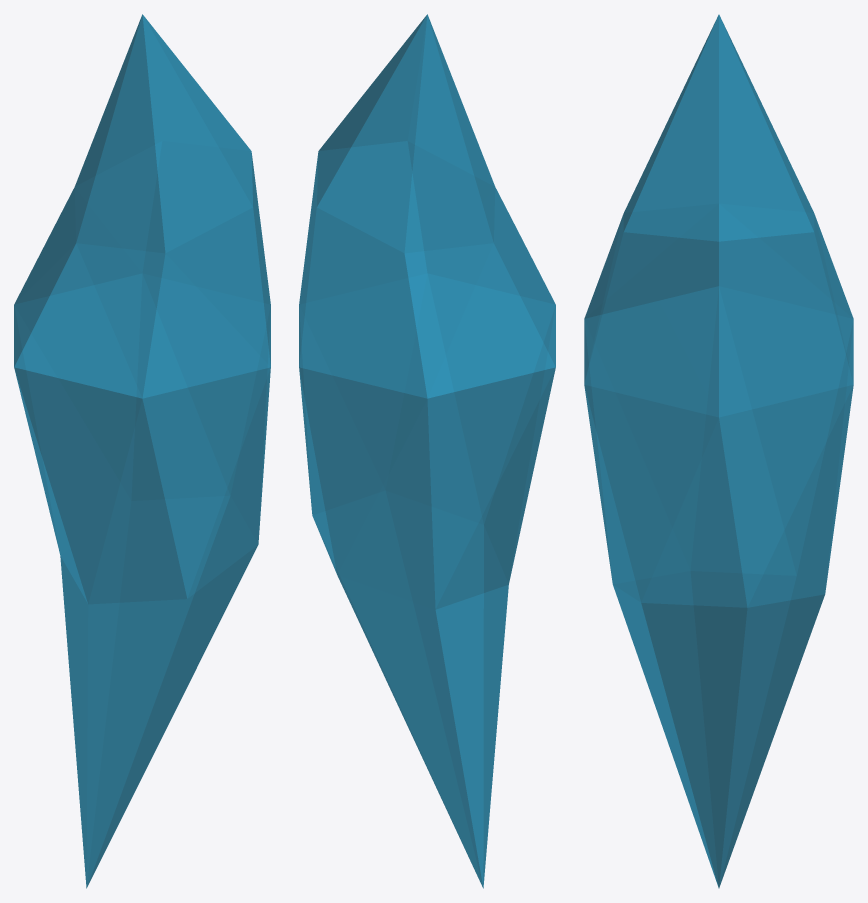
File: crystal03.fbx
3 renders of one model, left to right at view 1: azimuth 30°, elevation 25°; view 2: azimuth 150°, elevation 25°; view 3: azimuth 270°, elevation 25°, orthographic. The views are drawn at different scales.
Visible parts, largest first — view 1: crystal03; view 2: crystal03; view 3: crystal03.
Part boxes in pixels (<box>): crystal03: <box>14,14,270,888</box>; crystal03: <box>299,14,555,888</box>; crystal03: <box>584,14,853,888</box>.
Size of the model in its own units: 80 by 256 by 69.28.
